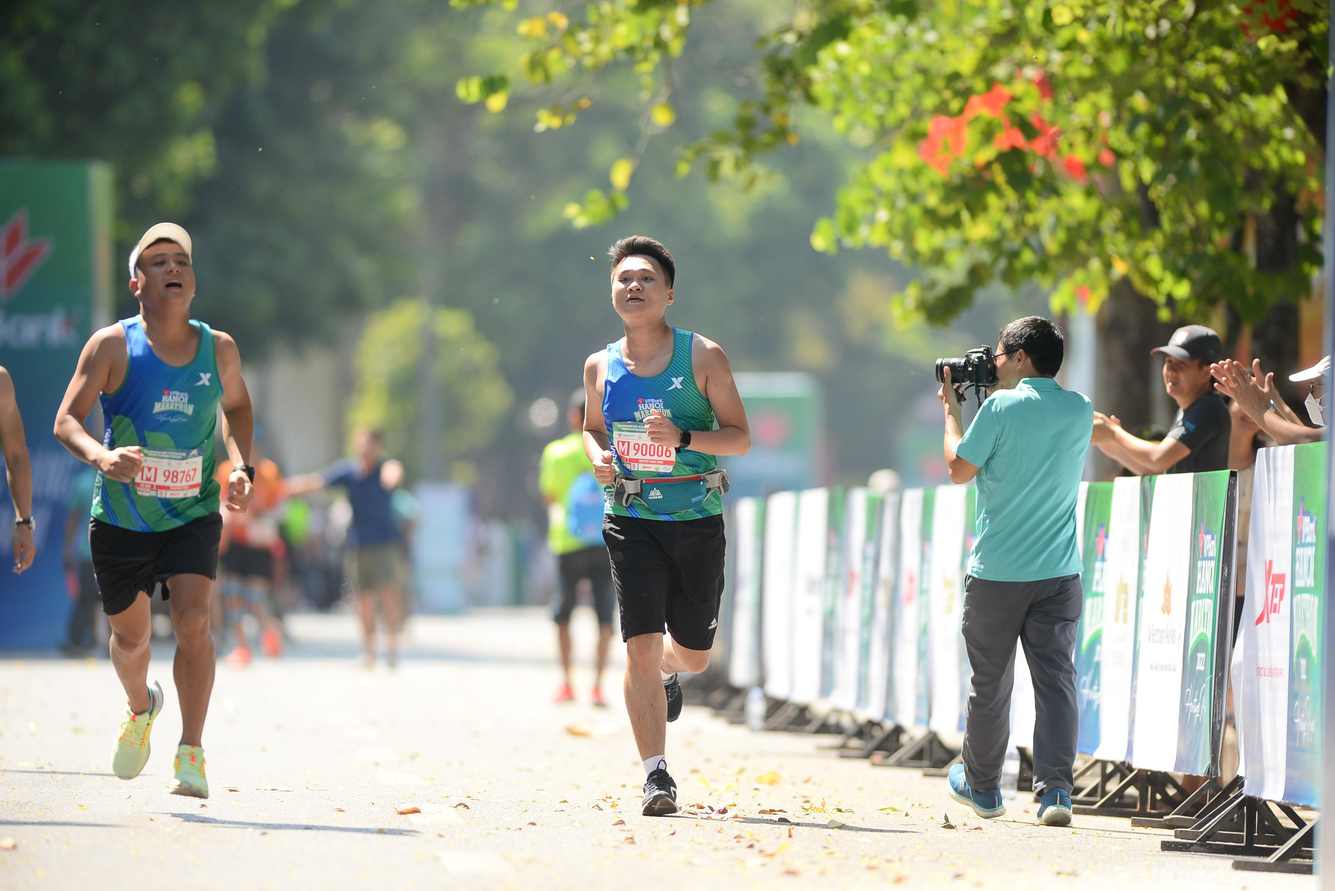bib: (611, 419, 677, 473), (137, 447, 202, 499)
